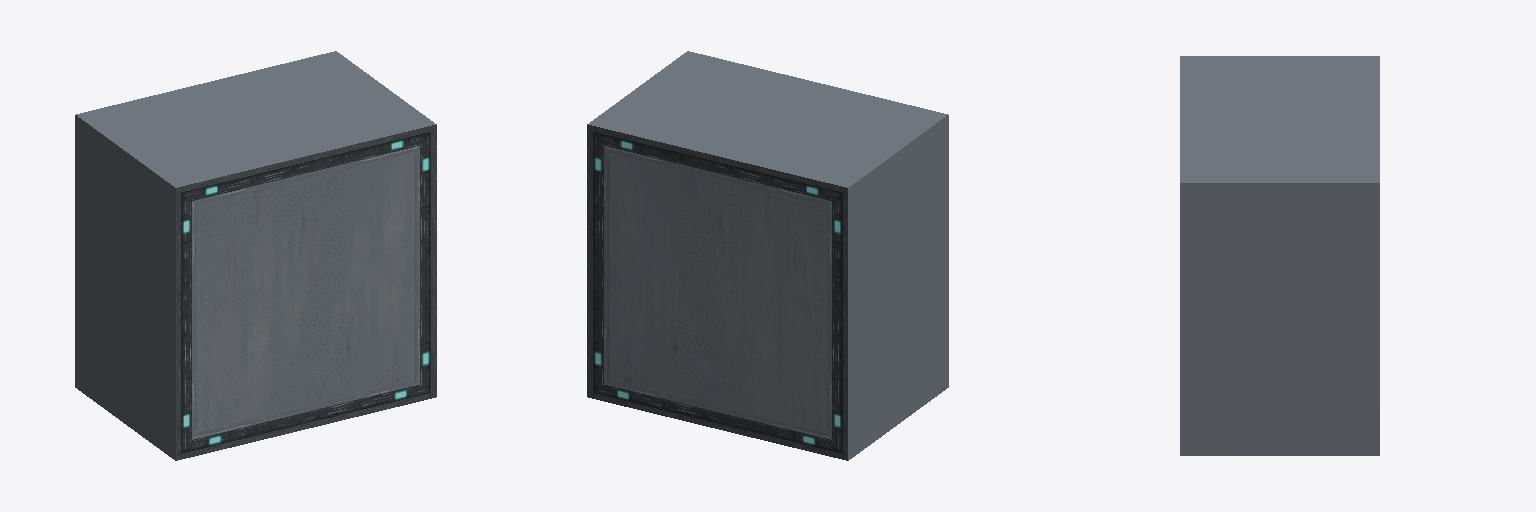
The picture shows the model from 3 angles: view 1: azimuth 30°, elevation 25°; view 2: azimuth 150°, elevation 25°; view 3: azimuth 270°, elevation 25°; orthographic projection.
Visible parts, largest first — view 1: Cube.338_Door; view 2: Cube.338_Door; view 3: Cube.338_Door.
Boxes of the visible parts, box(x1,y1,x2,y2) form: Cube.338_Door: box(75, 51, 436, 460); Cube.338_Door: box(587, 51, 948, 460); Cube.338_Door: box(1180, 56, 1379, 455).
Size of the model in its own units: 3 by 3 by 2.
1 materials, 1 textured.